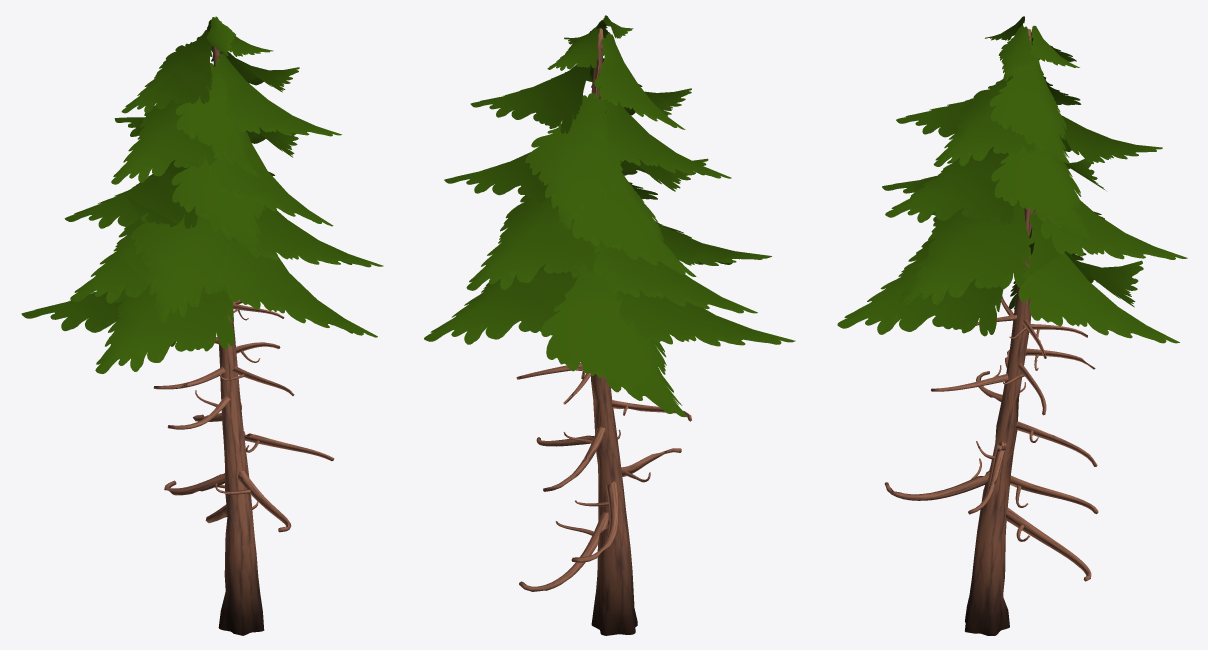
File: n_pine_3.glb
The picture shows the model from 3 angles, left to right: view 1: azimuth 30°, elevation 25°; view 2: azimuth 150°, elevation 25°; view 3: azimuth 270°, elevation 25°; orthographic projection. The views are drawn at different scales.
Visible parts, largest first — view 1: Pine_3; view 2: Pine_3; view 3: Pine_3.
Boxes of the visible parts, x1,y1,x2,y2 form: Pine_3: (21, 16, 383, 635); Pine_3: (424, 15, 795, 635); Pine_3: (837, 16, 1187, 635).
Size of the model in its own units: 3.61 by 7.39 by 4.
2 materials, 2 textured.
